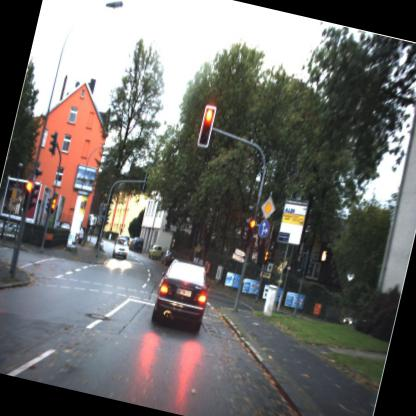mandatory: (255, 216, 272, 243)
other: (258, 189, 282, 223)
